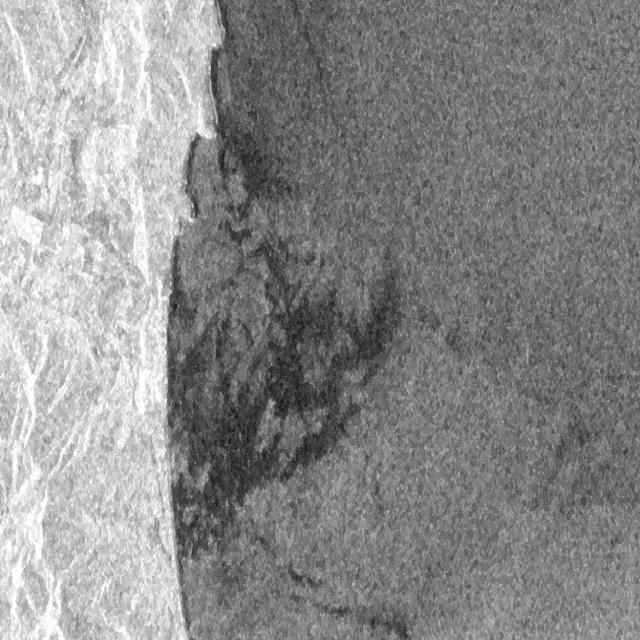look-alike: (169, 279, 401, 548), (217, 107, 295, 273), (287, 568, 413, 638)
